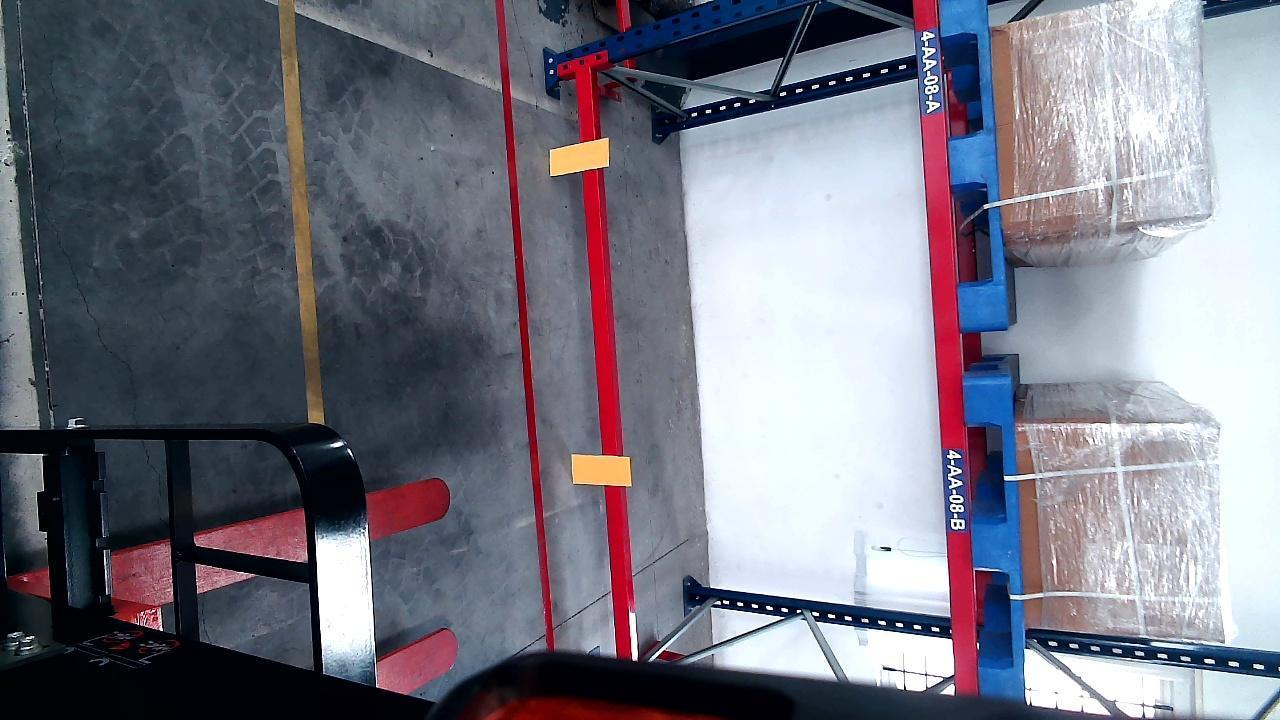h_rack: (577, 64, 632, 649)
orange_strip: (547, 137, 609, 176), (572, 453, 630, 485)
red_line: (501, 1, 550, 652)
small_pallet: (941, 0, 1006, 328), (969, 383, 1026, 688)
yellow_line: (281, 1, 326, 421)
